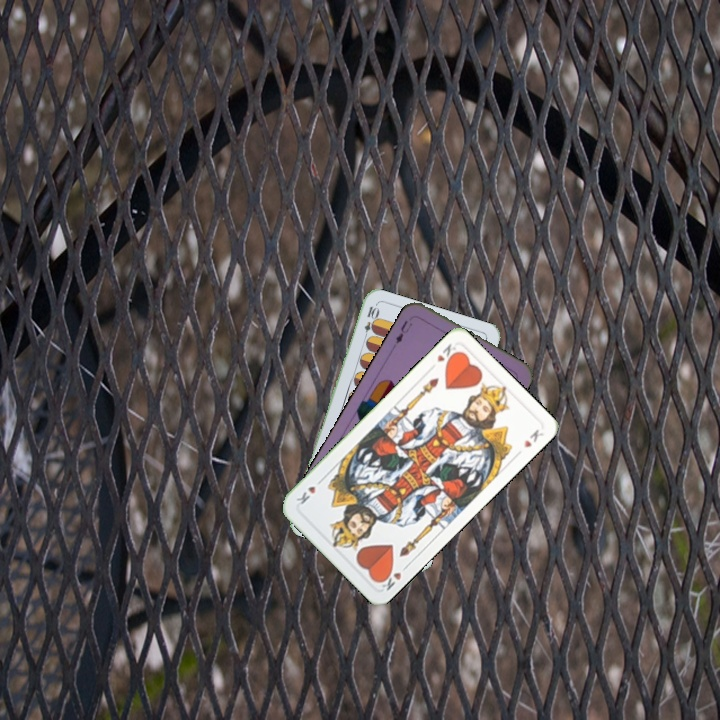E10: (360, 302, 380, 343)
EU: (392, 316, 415, 346)
HK: (374, 560, 411, 593), (433, 339, 462, 367)
